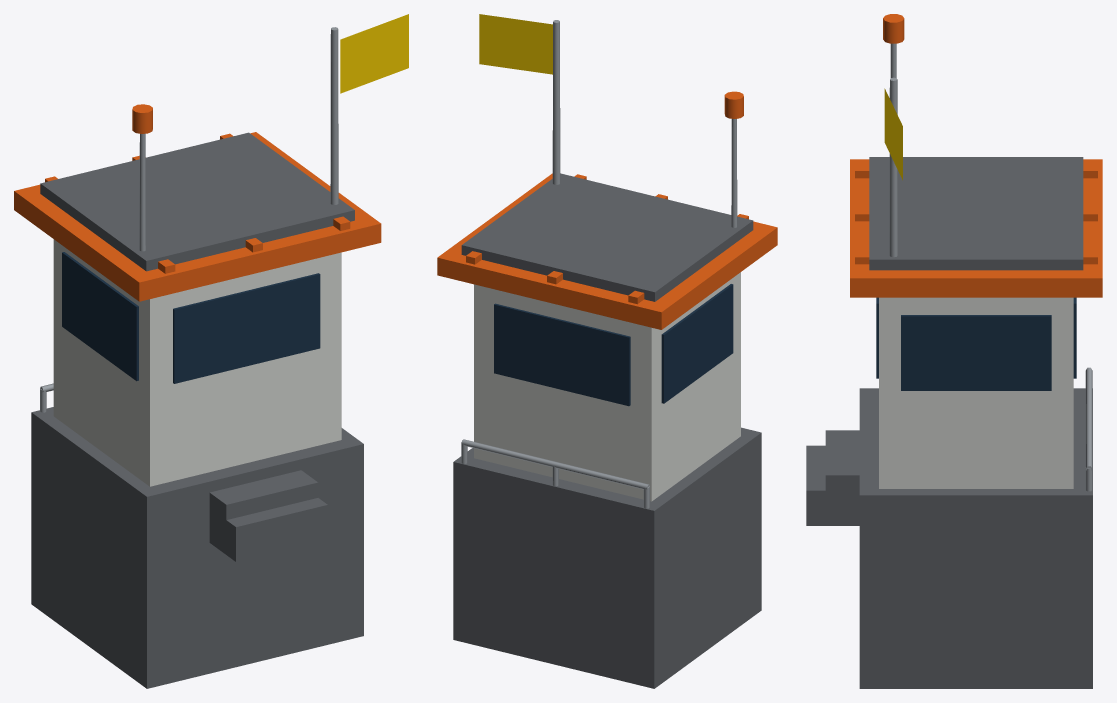
Rendered from marshal_post.glb.
The picture shows the model from 3 angles, left to right: view 1: azimuth 30°, elevation 25°; view 2: azimuth 150°, elevation 25°; view 3: azimuth 270°, elevation 25°; orthographic projection. The views are drawn at different scales.
Visible parts, largest first — view 1: marshal_post; view 2: marshal_post; view 3: marshal_post.
Part boxes in pixels (bbox=[...]): marshal_post: bbox=[14, 14, 408, 688]; marshal_post: bbox=[437, 14, 777, 688]; marshal_post: bbox=[806, 14, 1102, 688].
Bounding box in the file's own units: 3.55 × 6.85 × 3.05.
